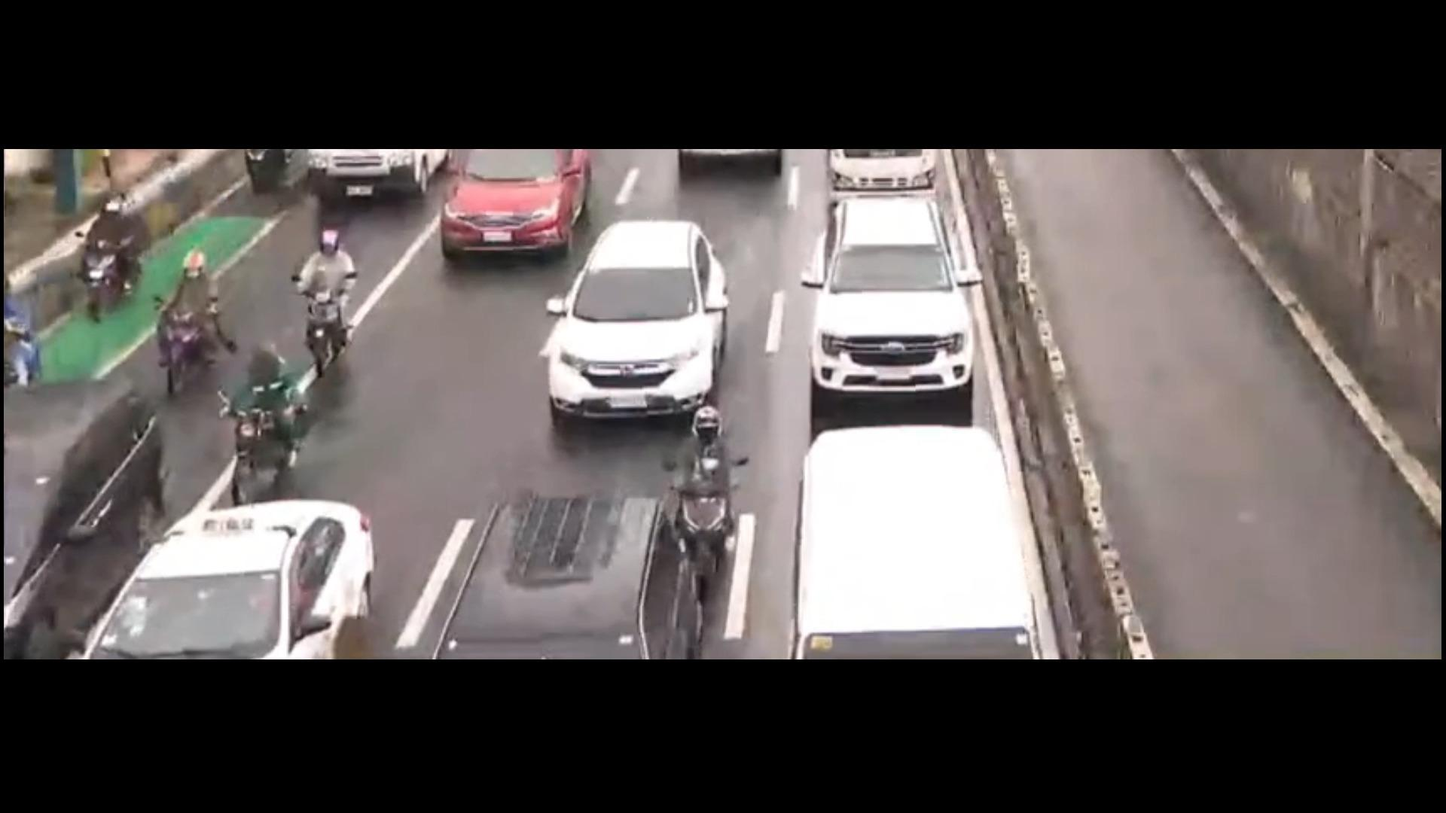Motorcycle: (663, 412, 751, 582), (224, 341, 309, 502), (73, 175, 158, 311), (153, 237, 228, 388), (292, 222, 360, 376), (0, 271, 55, 380)
SUV: (0, 369, 173, 647), (433, 493, 712, 655), (544, 224, 738, 425), (815, 201, 968, 412), (444, 151, 593, 263)
Sedan: (79, 499, 386, 661)
Van: (785, 420, 1047, 661)
